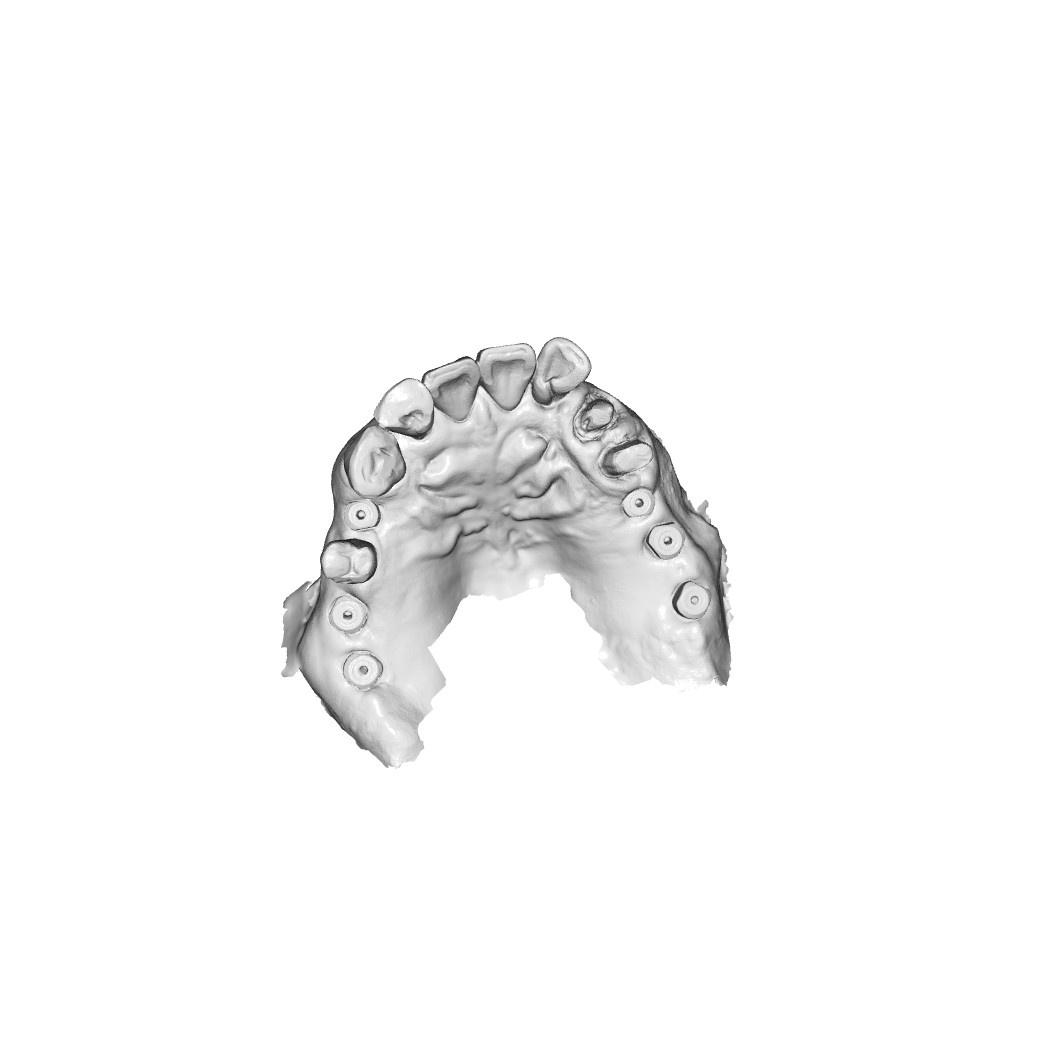canine: (342, 422, 403, 495)
crown: (603, 441, 658, 482), (579, 396, 615, 438)
implant: (343, 496, 381, 540), (648, 521, 687, 560), (344, 647, 383, 686), (674, 583, 710, 620), (328, 596, 367, 630), (622, 485, 650, 518)
incisor: (527, 333, 592, 410), (474, 337, 537, 415), (374, 375, 434, 442), (423, 354, 478, 423)
premolar: (319, 538, 380, 584)
